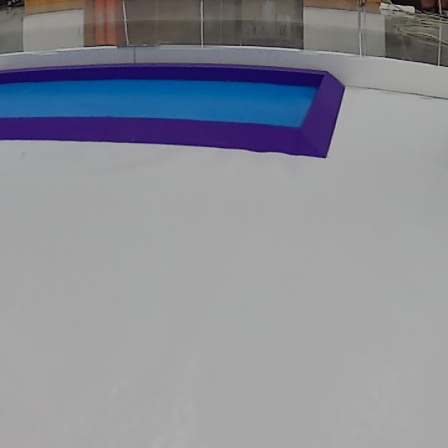blue_aim: (2, 61, 349, 163)
